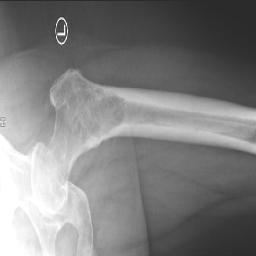cancer: (49, 66, 125, 179)
